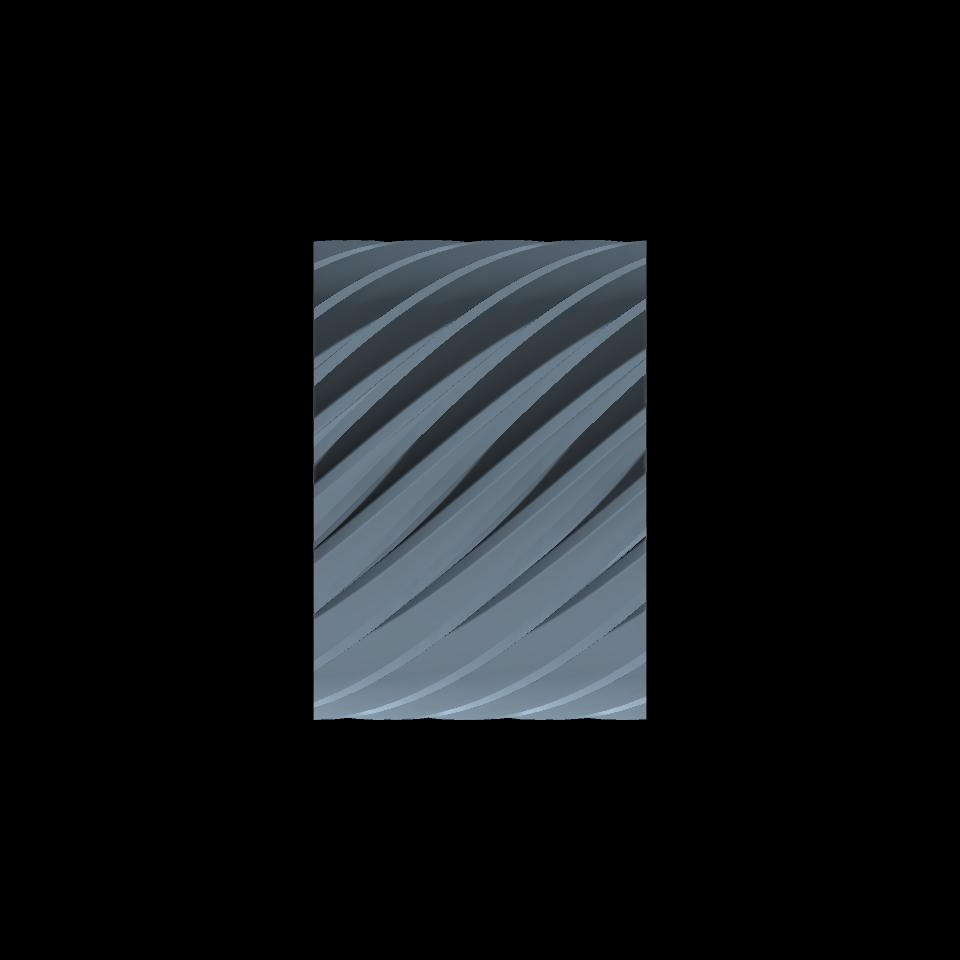Helical: (313, 238, 644, 719)
